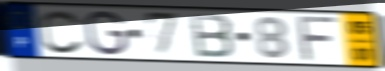7: (144, 10, 181, 59)
8: (253, 15, 292, 60)
B: (188, 12, 237, 59)
C: (39, 9, 86, 56)
F: (297, 15, 342, 63)
G: (83, 9, 130, 57)
